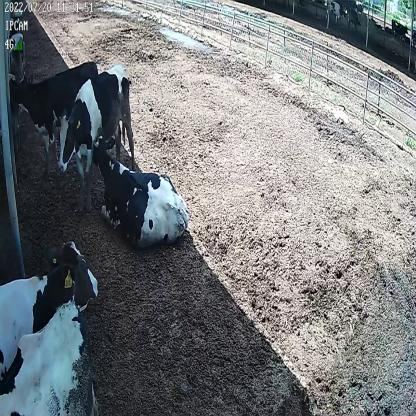cow: (56, 61, 136, 209), (92, 131, 191, 250), (16, 60, 100, 176)
